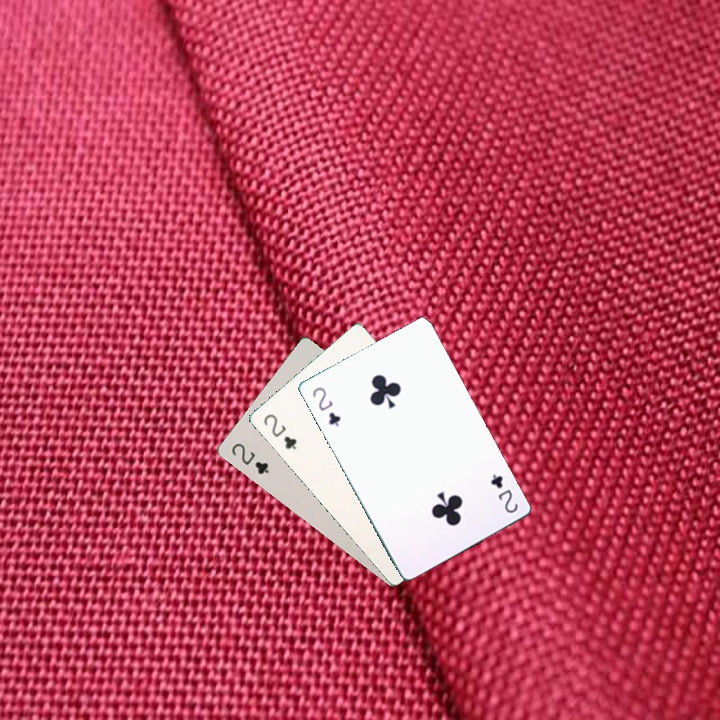2c: (227, 439, 272, 477), (259, 410, 299, 452), (308, 383, 343, 429), (486, 470, 520, 516)
